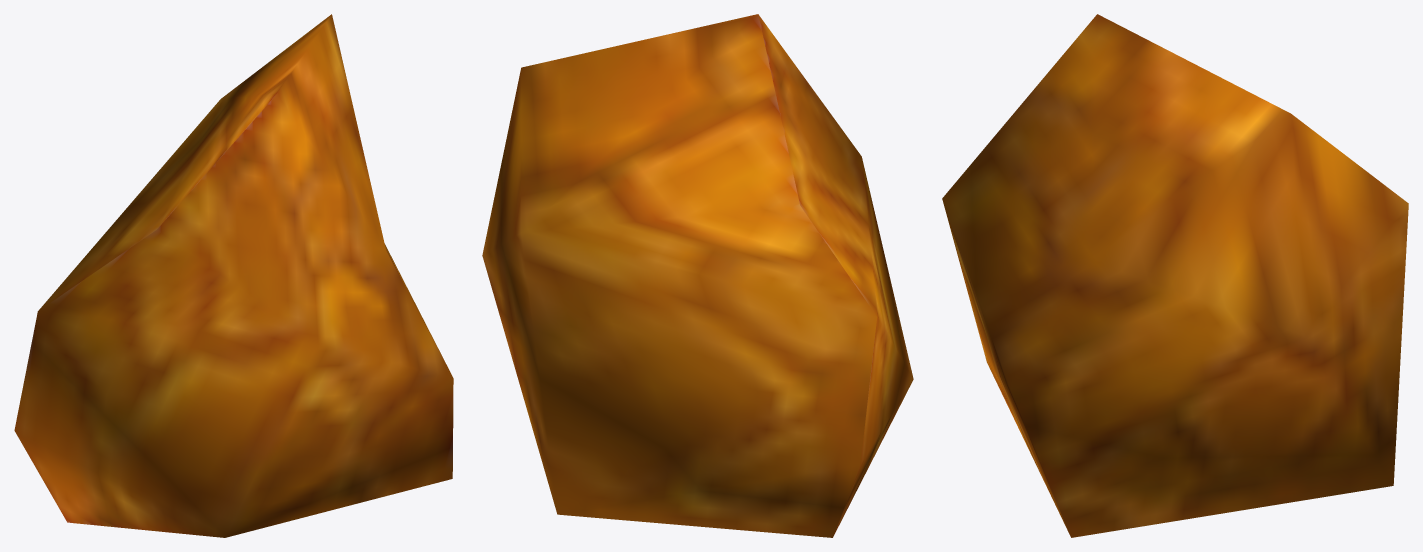
The model's file is all_mine_prop_8.FBX.
3 renders of one model, left to right at view 1: azimuth 30°, elevation 25°; view 2: azimuth 150°, elevation 25°; view 3: azimuth 270°, elevation 25°, orthographic. The views are drawn at different scales.
Parts seen in each view (by area): view 1: all_mine_prop_8; view 2: all_mine_prop_8; view 3: all_mine_prop_8.
Boxes of the visible parts, x1,y1,x2,y2 form: all_mine_prop_8: (14, 14, 453, 537); all_mine_prop_8: (482, 14, 913, 537); all_mine_prop_8: (942, 14, 1408, 537).
Bounding box in the file's own units: 20.33 × 23.72 × 21.41.
